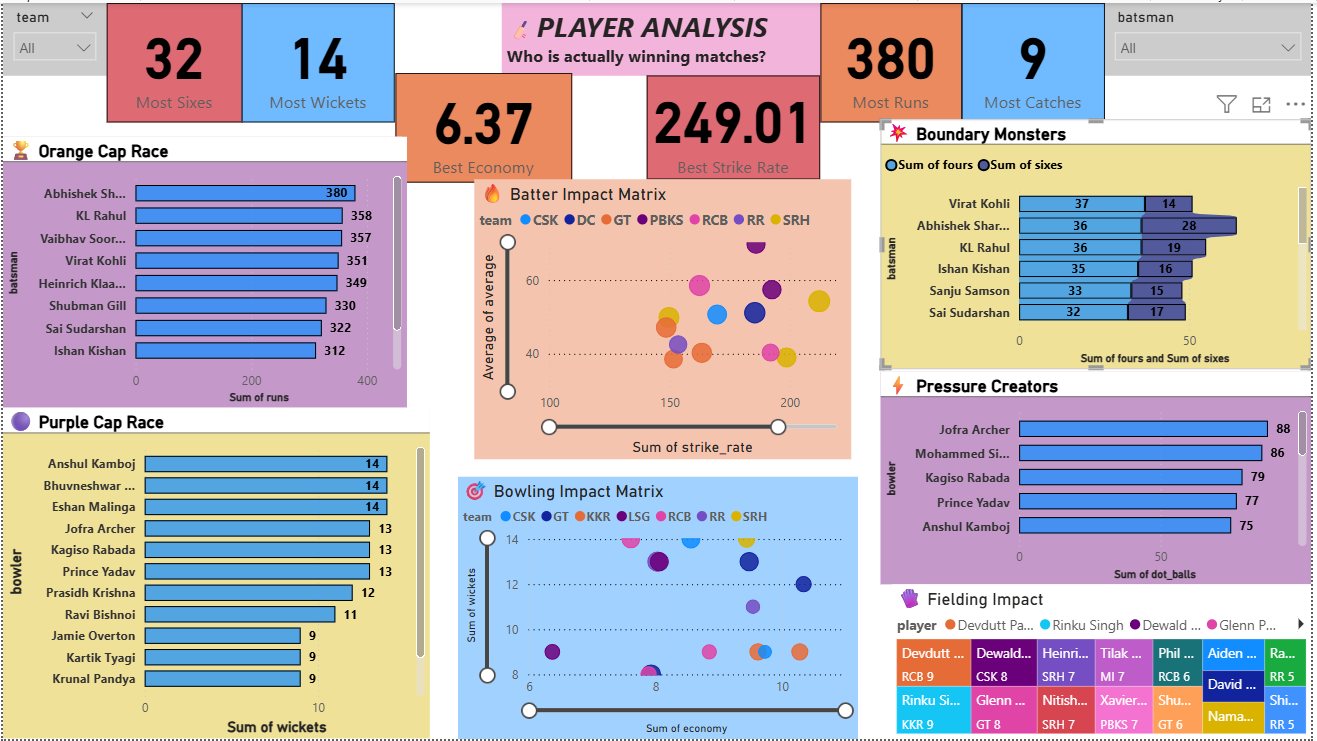

Layout of this report page (visuals, bound fields, positions):
{"tool":"powerbi","page":{"name":"Page 2","canvas":[1280,720],"ordinal":1},"visuals":[{"type":"textbox","box":[487.5,0,322.1,71.3],"z":0},{"type":"slicer","fields":{"Values":["batting_stats.team"]},"box":[0,0,101.2,71.3],"z":1000},{"type":"slicer","fields":{"Values":["batting_stats.batsman"]},"box":[1077.6,0,202.4,71.3],"z":2000},{"type":"card","fields":{"Values":["Measures (2).Most Runs"]},"box":[799.6,0,138.3,116.9],"z":3000},{"type":"card","fields":{"Values":["Measures (2).Most Sixes"]},"box":[101.2,0,132.6,116.9],"z":4000},{"type":"card","fields":{"Values":["Measures (2).Most Wickets"]},"box":[233.8,0,149.7,116.9],"z":5000},{"type":"card","fields":{"Values":["Measures (2).Most Catches"]},"box":[937.9,0,139.7,116.9],"z":6000},{"type":"card","fields":{"Values":["Measures (2).Best Economy"]},"box":[383.4,68.4,172.5,106.9],"z":7000},{"type":"card","fields":{"Values":["Measures (2).Best Strike Rate"]},"box":[630,71.3,169.6,101.2],"z":8000},{"type":"scatterChart","title":"🔥 Batter Impact Matrix","fields":{"X":["Sum(batting_stats.strike_rate)1"],"Y":["Avg(batting_stats.average)"],"Category":["batting_stats.batsman"],"Series":["batting_stats.team"],"Size":["Sum(batting_stats.runs)"]},"box":[460.4,172.5,369.2,273.7],"z":9000},{"type":"clusteredBarChart","title":"🏆 Orange Cap Race","fields":{"Y":["Sum(batting_stats.runs)"],"Category":["batting_stats.batsman"]},"box":[0,131.1,394.8,265.1],"z":10000},{"type":"barChart","title":"💥 Boundary Monsters","fields":{"Category":["batting_stats.batsman"],"Y":["Sum(batting_stats.fours)","Sum(batting_stats.sixes)"]},"box":[858.1,114,421.9,243.7],"z":11000},{"type":"scatterChart","title":"🎯 Bowling Impact Matrix","fields":{"X":["Sum(bowling_stats.economy)"],"Y":["Sum(bowling_stats.wickets)"],"Category":["bowling_stats.bowler"],"Size":["Sum(bowling_stats.dot_balls)"],"Series":["bowling_stats.team"]},"box":[444.7,463.3,390.6,256.6],"z":12000},{"type":"clusteredBarChart","title":"🟣 Purple Cap Race","fields":{"Y":["Sum(bowling_stats.wickets)"],"Category":["bowling_stats.bowler"]},"box":[0,396.3,417.6,323.6],"z":13000},{"type":"clusteredBarChart","title":"⚡ Pressure Creators","fields":{"Category":["bowling_stats.bowler"],"Y":["Sum(bowling_stats.dot_balls)"]},"box":[858.1,360.6,421.9,208.1],"z":14000},{"type":"treemap","title":"🧤 Fielding Impact","fields":{"Values":["Sum(fielding_stats.catches)"],"Group":["fielding_stats.player"],"Details":["fielding_stats.team"]},"box":[869.5,568.7,410.5,151.1],"z":15000}]}

Visuals, with their boxes in screenshot pixels (x1, y1, x2, y2), scaled from the page's 1280x720 canvas onto the 1317x741 screenshot:
textbox: 502/0/833/73
slicer - batting_stats.team: 0/0/104/73
slicer - batting_stats.batsman: 1109/0/1316/73
card - Measures (2).Most Runs: 823/0/965/120
card - Measures (2).Most Sixes: 104/0/241/120
card - Measures (2).Most Wickets: 241/0/395/120
card - Measures (2).Most Catches: 965/0/1109/120
card - Measures (2).Best Economy: 394/70/572/180
card - Measures (2).Best Strike Rate: 648/73/823/178
"🔥 Batter Impact Matrix" scatterChart: 474/178/854/459
"🏆 Orange Cap Race" clusteredBarChart: 0/135/406/408
"💥 Boundary Monsters" barChart: 883/117/1316/368
"🎯 Bowling Impact Matrix" scatterChart: 458/477/859/740
"🟣 Purple Cap Race" clusteredBarChart: 0/408/430/740
"⚡ Pressure Creators" clusteredBarChart: 883/371/1316/585
"🧤 Fielding Impact" treemap: 895/585/1316/740
